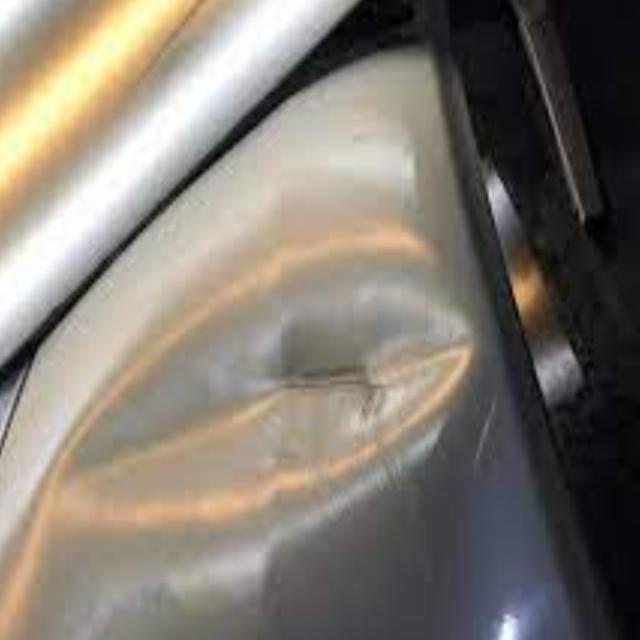dents: (73, 264, 480, 522)
